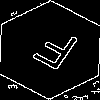F: (25, 25, 82, 80)
